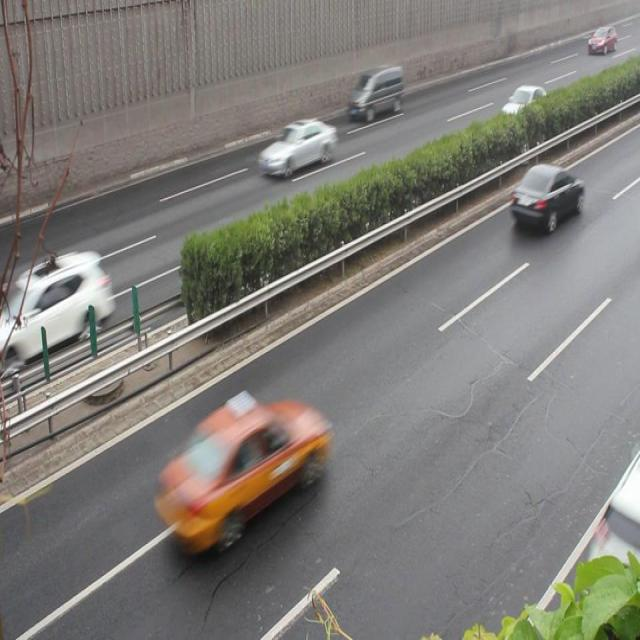car: (152, 400, 325, 552), (0, 250, 110, 366), (509, 163, 584, 233), (258, 118, 335, 176), (500, 84, 548, 130)
truck: (344, 63, 404, 123)
